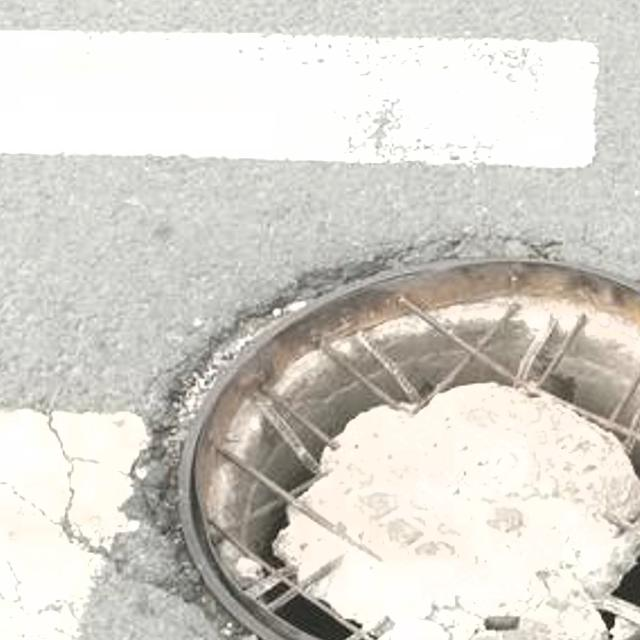broke: (126, 205, 640, 640)
